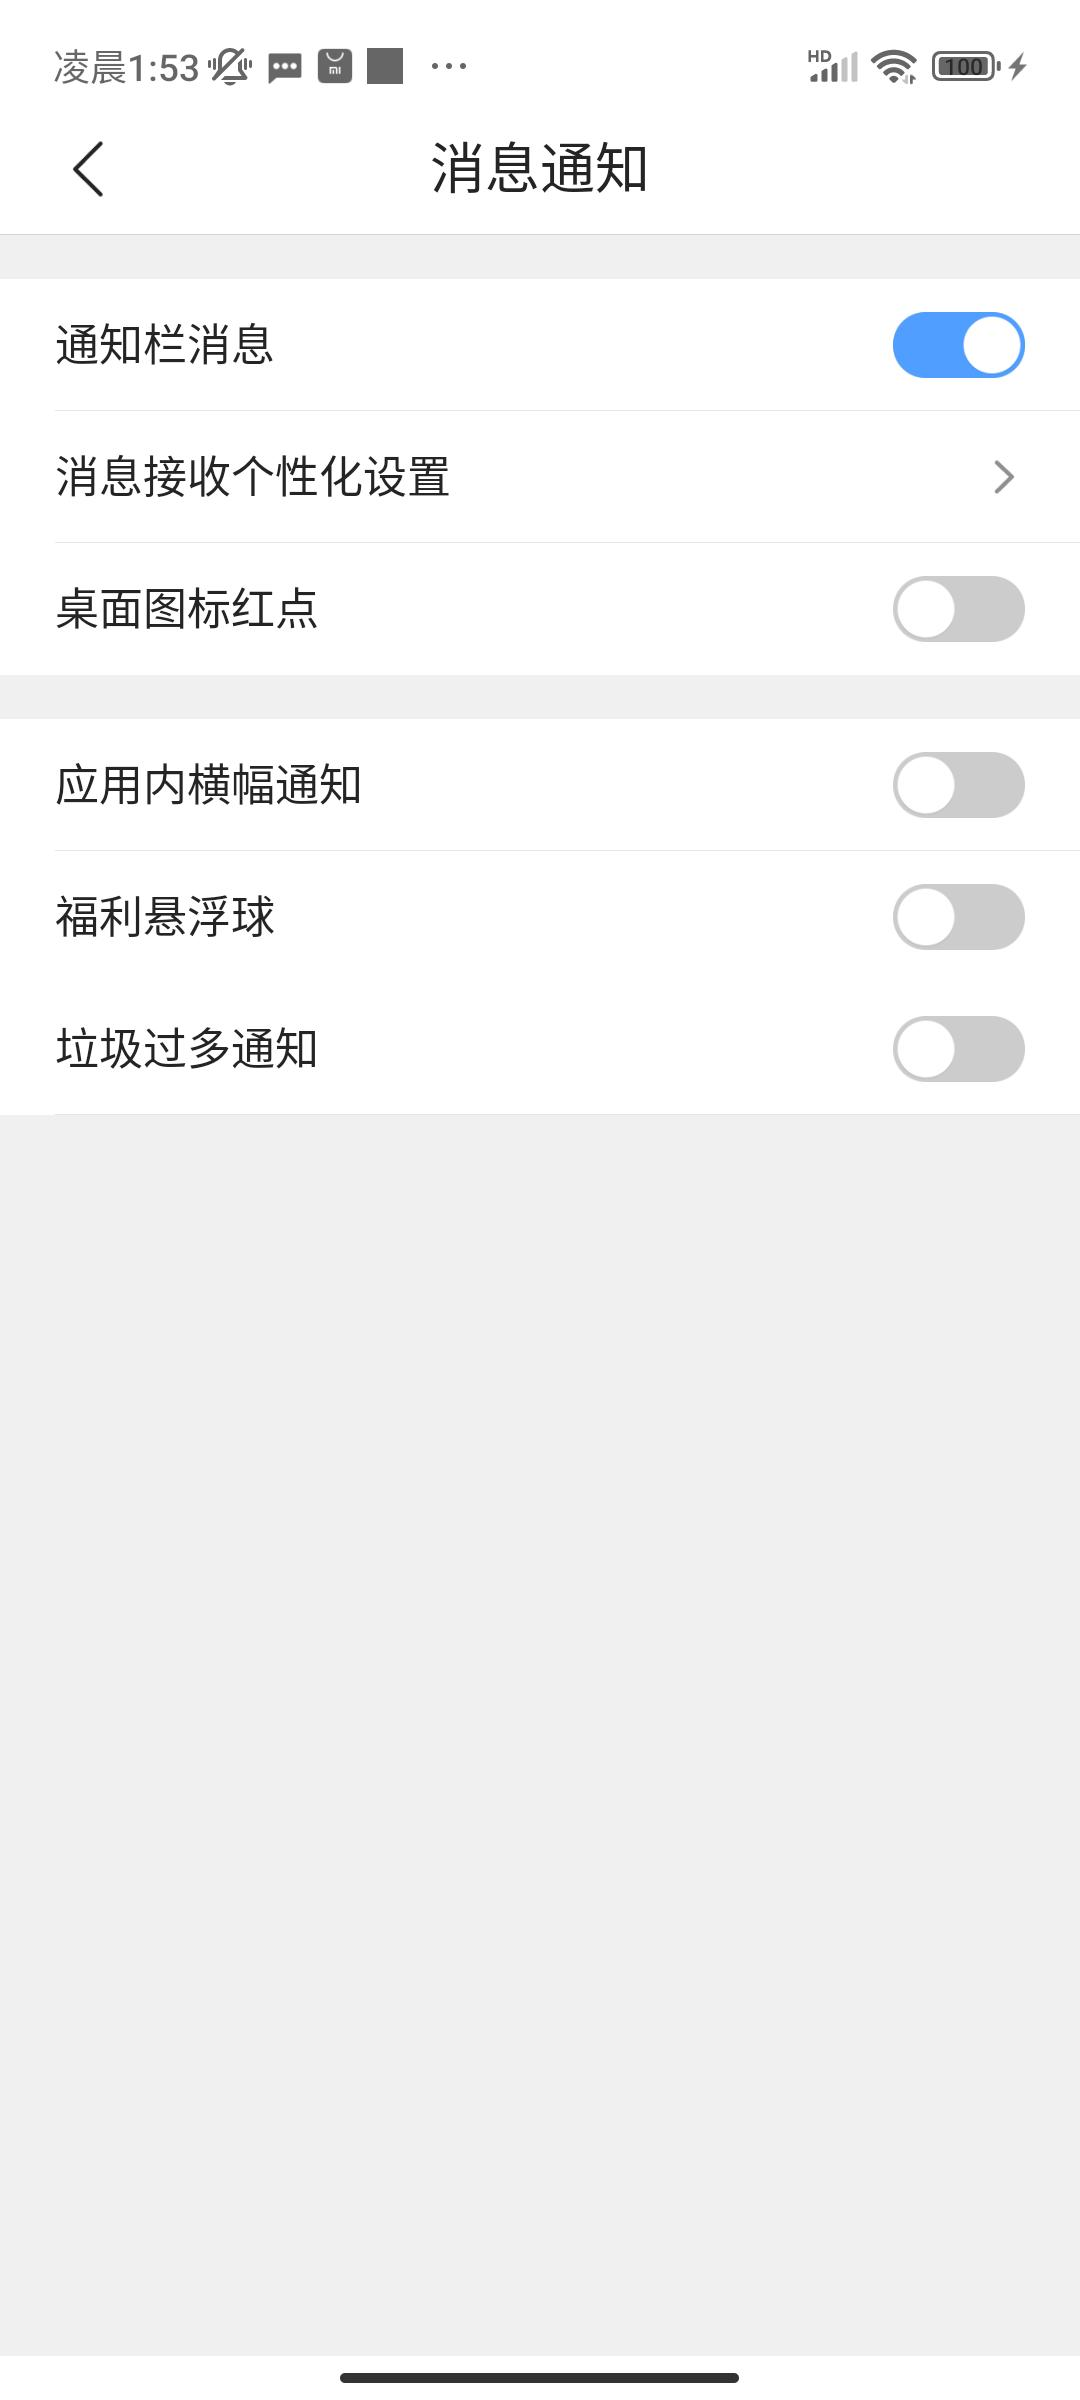ui_group: (20, 419, 1046, 536)
